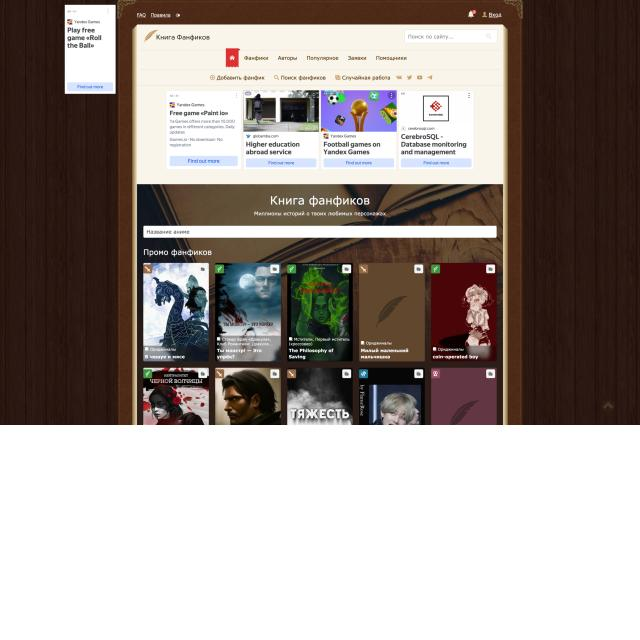input: (143, 224, 497, 239), (404, 28, 498, 44)
logo: (141, 29, 216, 46)
navigation: (207, 70, 440, 84), (243, 52, 409, 64)
